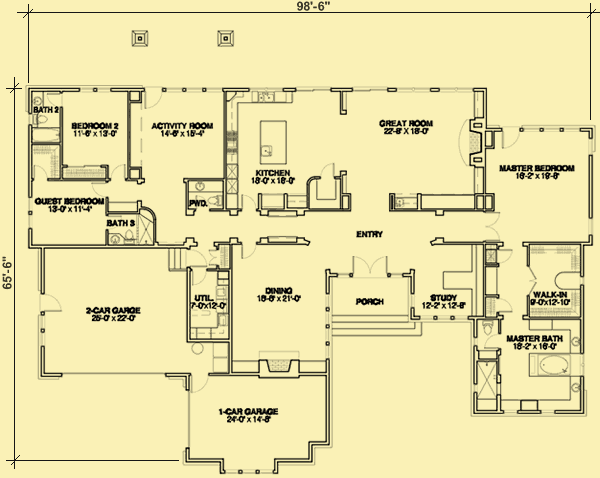door: (350, 254, 391, 280), (485, 207, 504, 245), (38, 291, 64, 315), (142, 86, 165, 111), (499, 126, 522, 151), (188, 371, 211, 394), (237, 237, 259, 261), (239, 190, 260, 213), (188, 247, 208, 271), (108, 161, 128, 182), (191, 267, 210, 289), (497, 244, 515, 266), (43, 90, 66, 107), (316, 161, 337, 179), (496, 296, 516, 314), (482, 333, 503, 350), (89, 181, 109, 197), (32, 163, 49, 180)
large sink: (207, 191, 226, 212), (479, 317, 497, 338), (121, 227, 138, 247), (30, 113, 51, 128)
small sink: (31, 90, 44, 112), (106, 232, 123, 248), (189, 181, 211, 193)
stairs: (333, 310, 424, 340), (163, 245, 188, 271)
tub: (529, 350, 580, 380)
windows: (396, 86, 475, 97), (289, 83, 336, 96), (76, 83, 113, 97), (40, 311, 48, 351)
